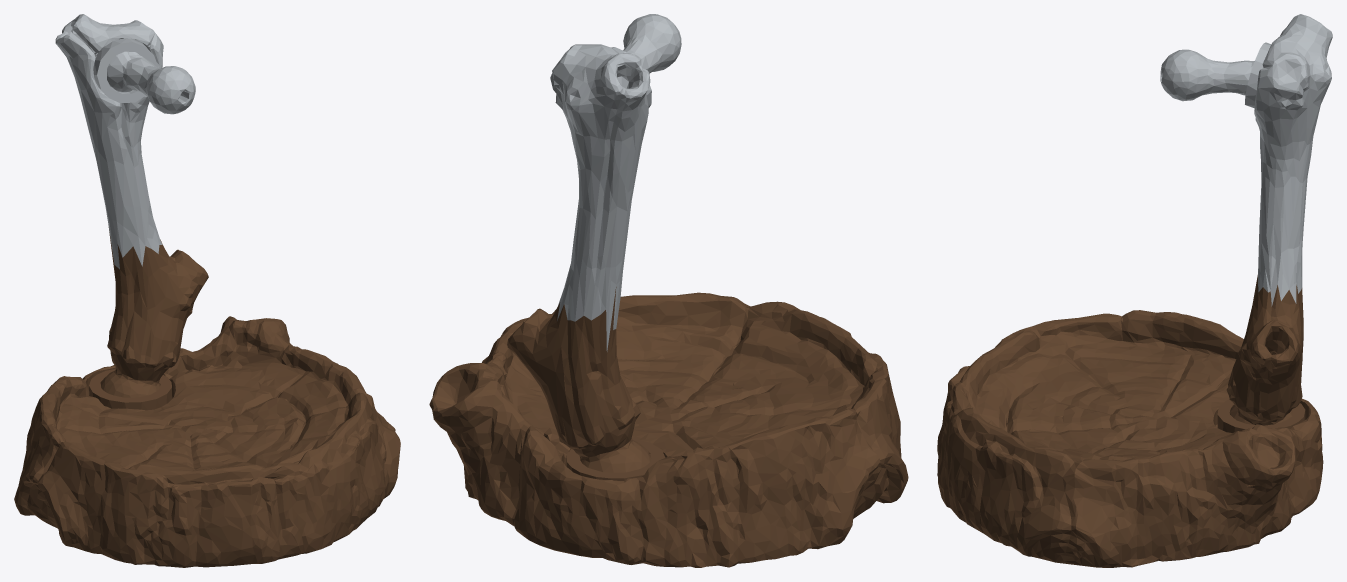
The model's file is set_04_base_stand.glb.
3 views of the same model, side by side, from view 1: azimuth 30°, elevation 25°; view 2: azimuth 150°, elevation 25°; view 3: azimuth 270°, elevation 25° (orthographic). The views are drawn at different scales.
Parts seen in each view (by area): view 1: stand_low, stand_high; view 2: stand_low, stand_high; view 3: stand_low, stand_high.
Boxes of the visible parts, x1,y1,x2,y2 form: stand_low: [14, 227, 400, 567]; stand_high: [55, 14, 195, 269]; stand_low: [429, 287, 908, 567]; stand_high: [550, 14, 681, 351]; stand_low: [937, 275, 1323, 567]; stand_high: [1160, 14, 1332, 306].
Bounding box in the file's own units: 0.0578 × 0.0686 × 0.0547.
